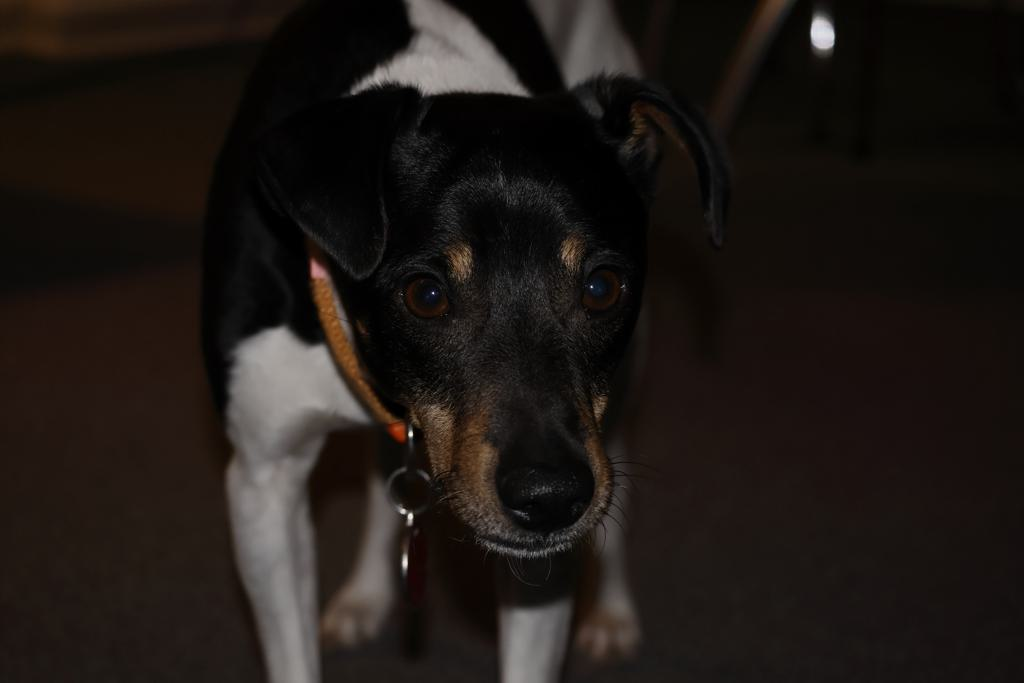Dog: (188, 0, 743, 683)
